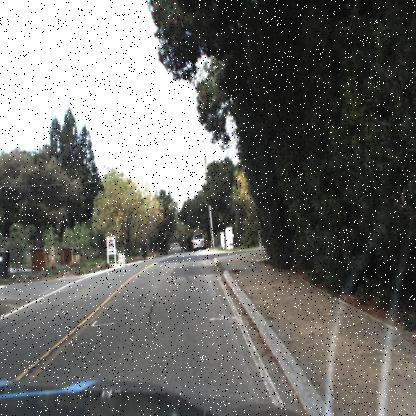car: (187, 230, 205, 256)
